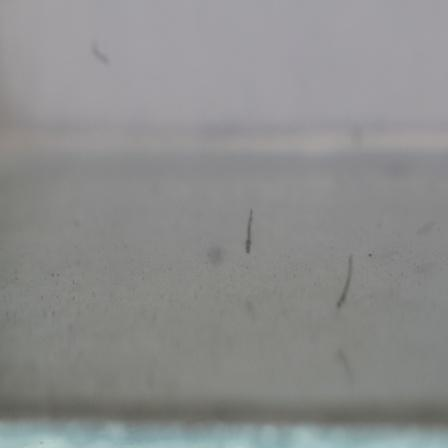Jentik-Nyamuk: (238, 207, 260, 257)
